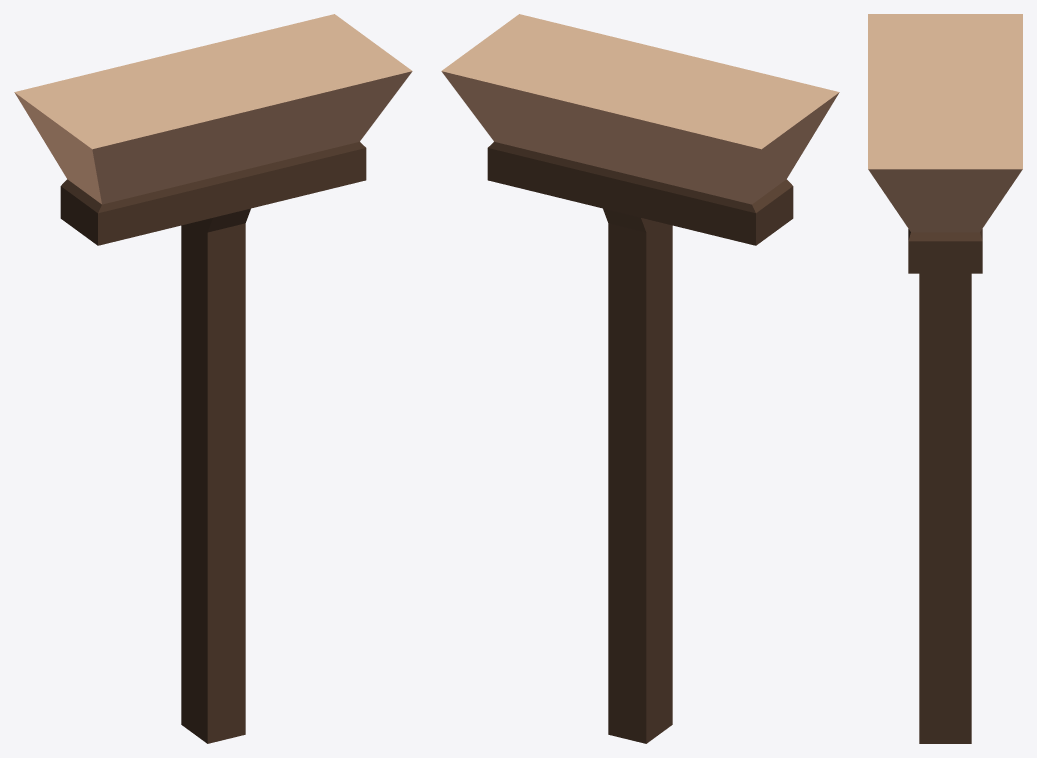
File: broom.fbx
3 views of the same model, side by side, from view 1: azimuth 30°, elevation 25°; view 2: azimuth 150°, elevation 25°; view 3: azimuth 270°, elevation 25° (orthographic).
Parts seen in each view (by area): view 1: Cube.001; view 2: Cube.001; view 3: Cube.001.
Part boxes in pixels (x1=…): Cube.001: x1=14, y1=14, x2=412, y2=743; Cube.001: x1=441, y1=14, x2=839, y2=743; Cube.001: x1=868, y1=14, x2=1022, y2=743.
Size of the model in its own units: 96.55 by 187 by 40.73.
